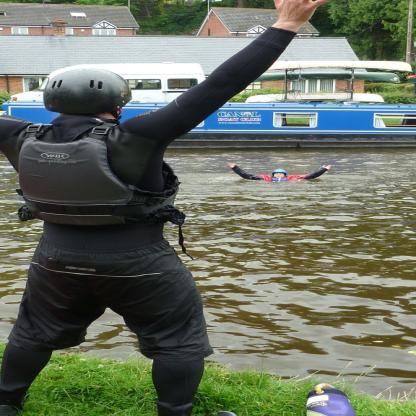Helmet: (41, 64, 131, 118), (269, 168, 290, 179)
